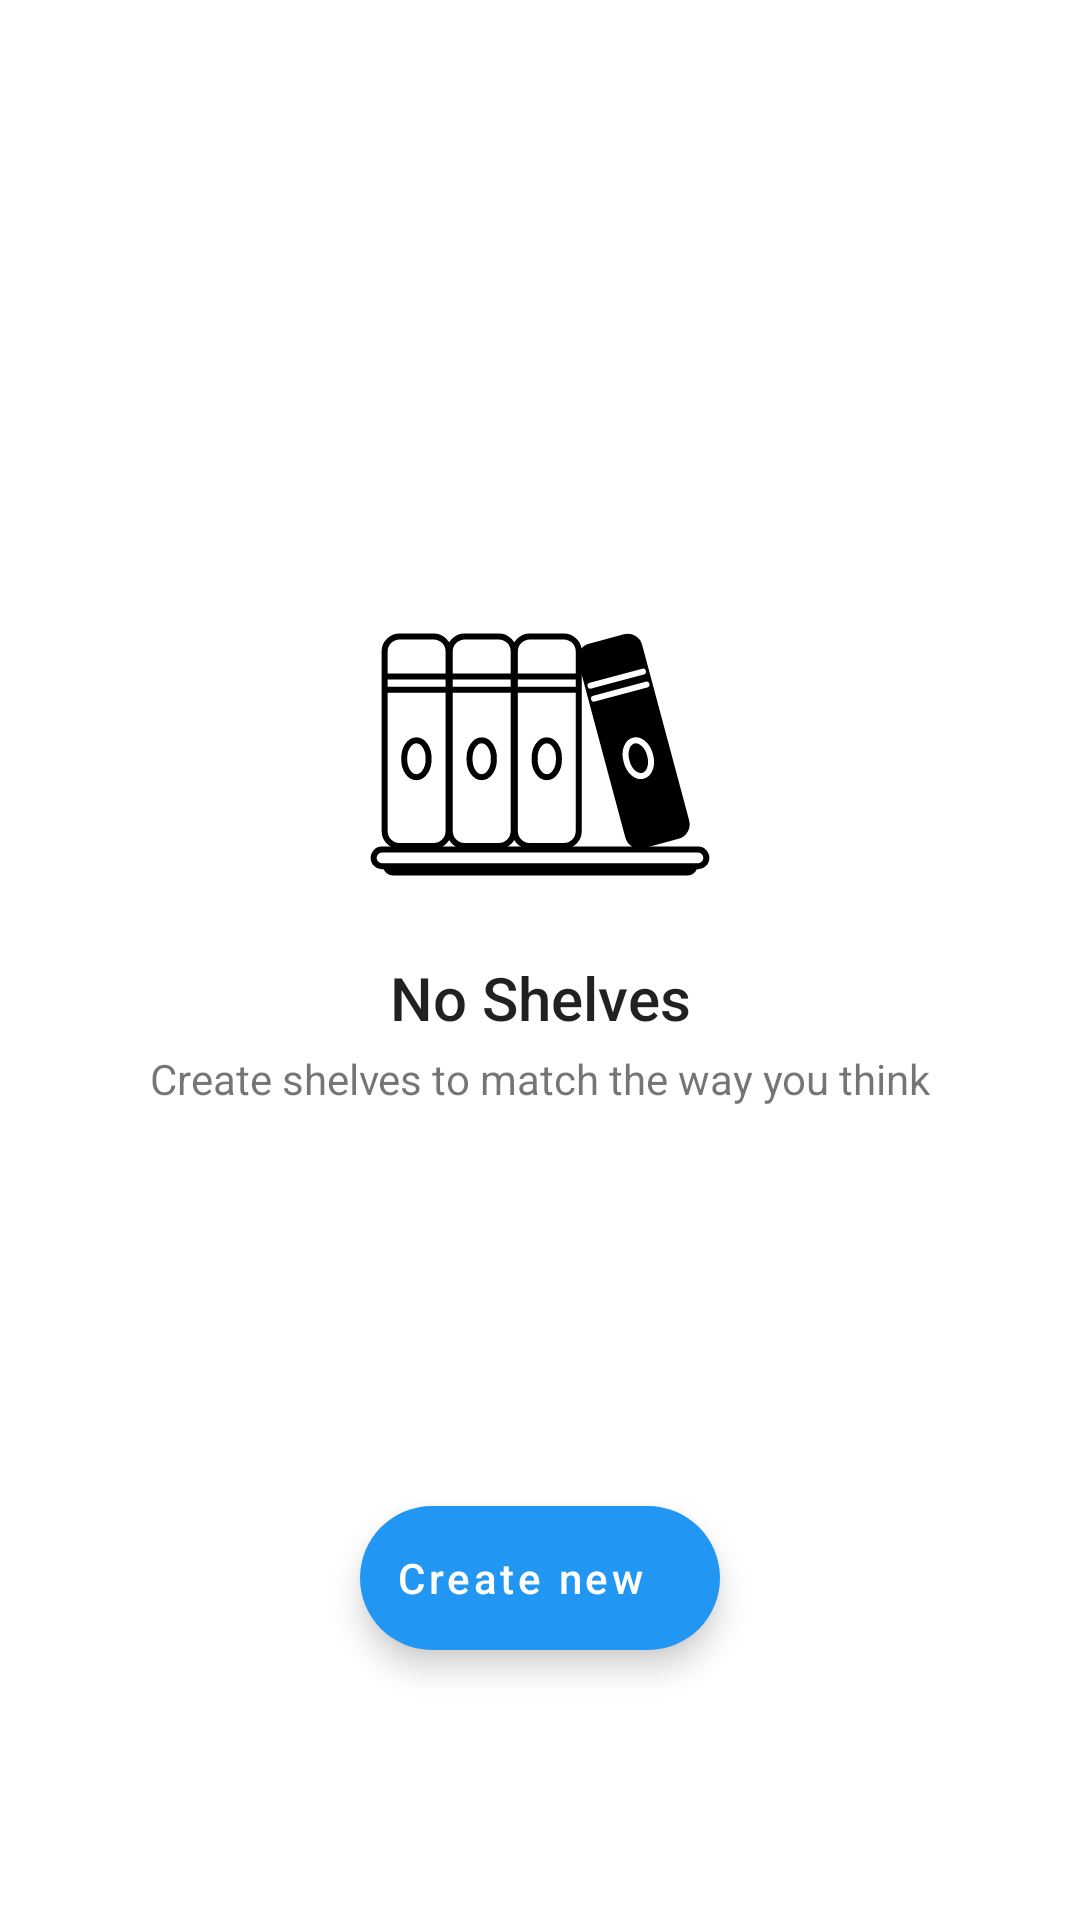

Where to tap for icons on this 1080w x 1920h app screen, as point (x, y):
bookshelf: point (540, 754)
